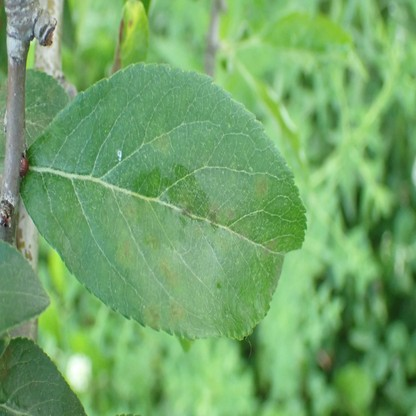scab: (115, 227, 136, 267), (159, 257, 178, 285), (150, 127, 170, 153), (142, 298, 159, 328), (119, 189, 137, 217), (191, 224, 209, 252), (167, 298, 183, 325), (214, 231, 233, 253), (254, 173, 268, 201), (32, 112, 49, 135), (258, 239, 276, 259), (273, 264, 285, 290), (45, 85, 58, 104), (145, 234, 156, 249), (179, 203, 192, 215), (224, 207, 235, 220), (209, 205, 219, 219)
